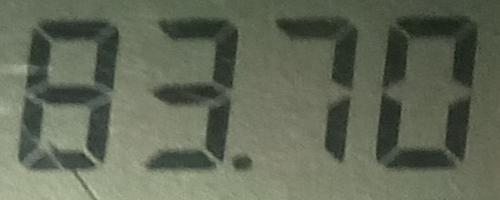.: (231, 151, 253, 174)
